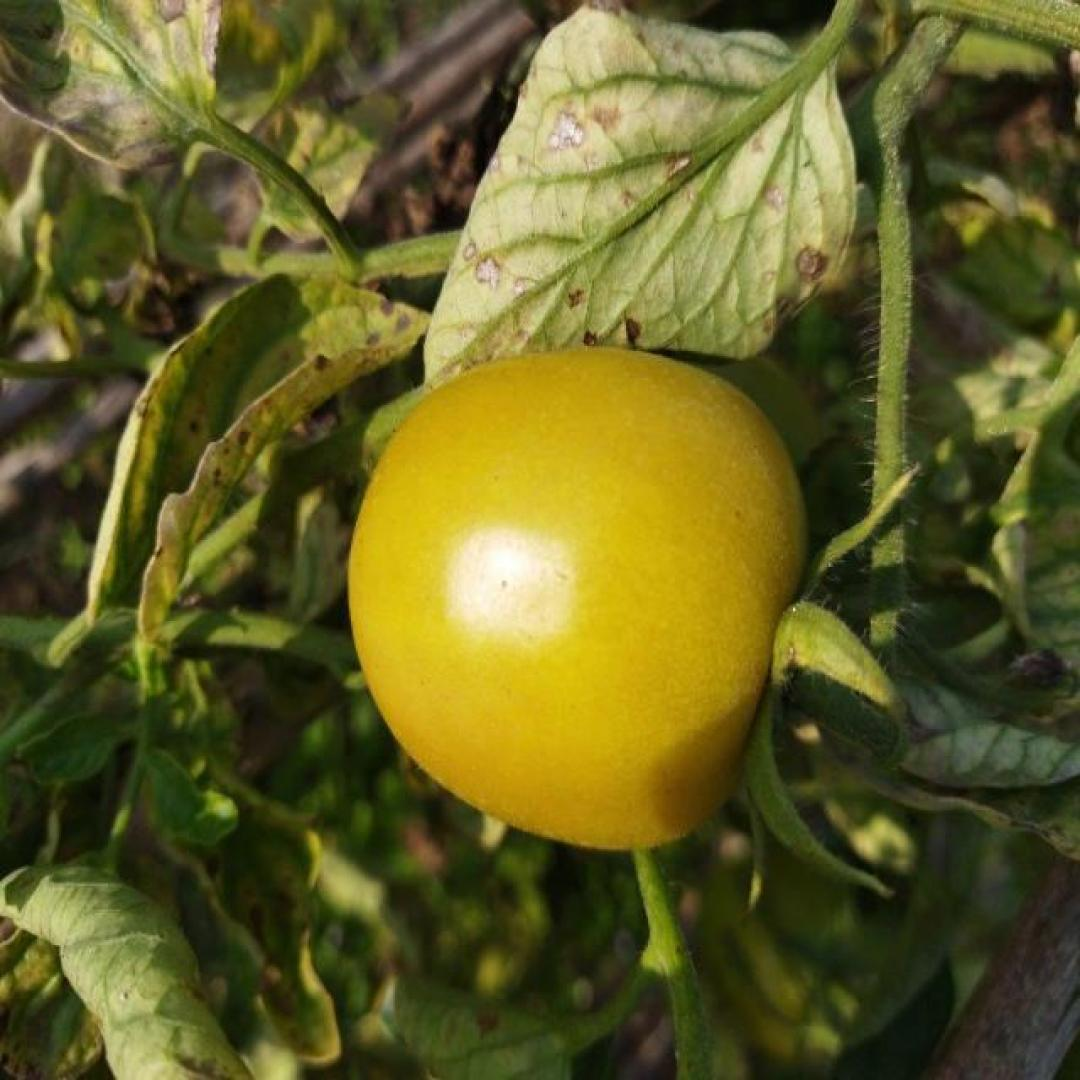setengah_matang: (342, 341, 808, 855)
